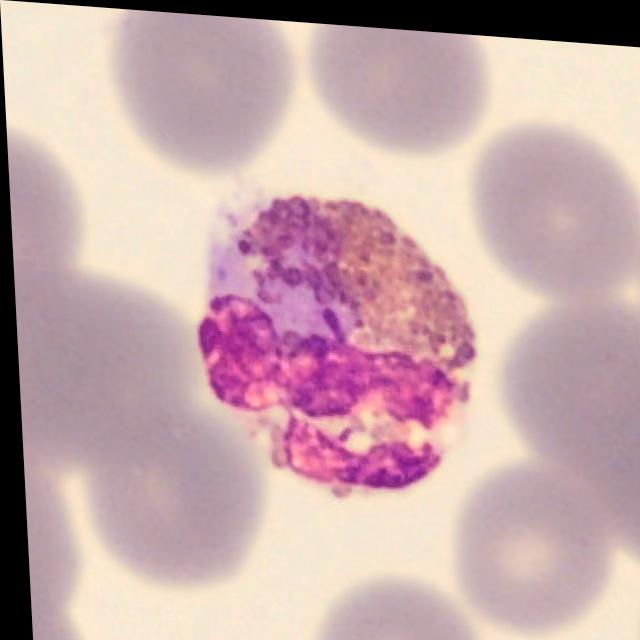Eosinofilo: (191, 193, 475, 490)
